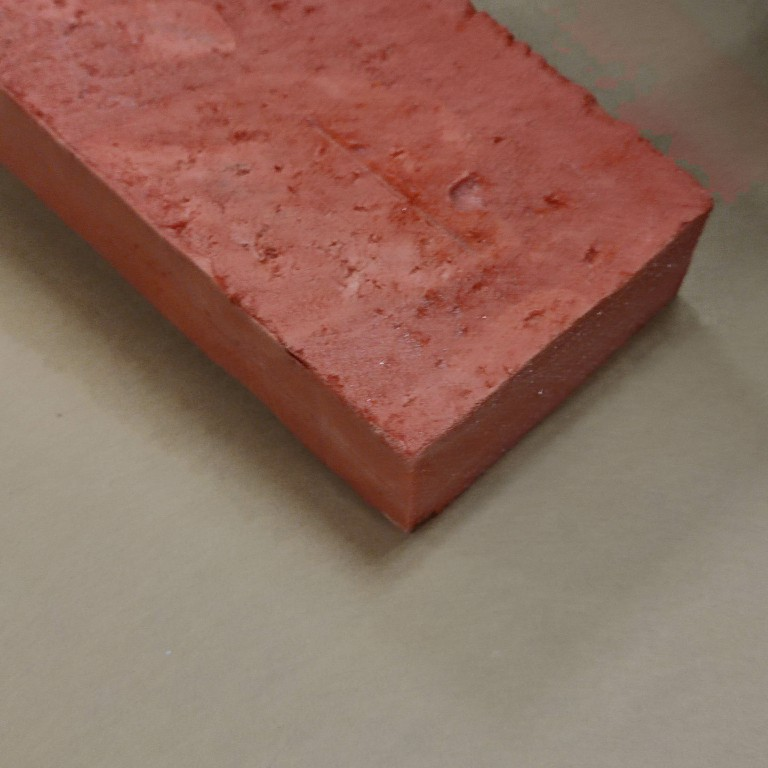brick: (1, 1, 720, 541)
